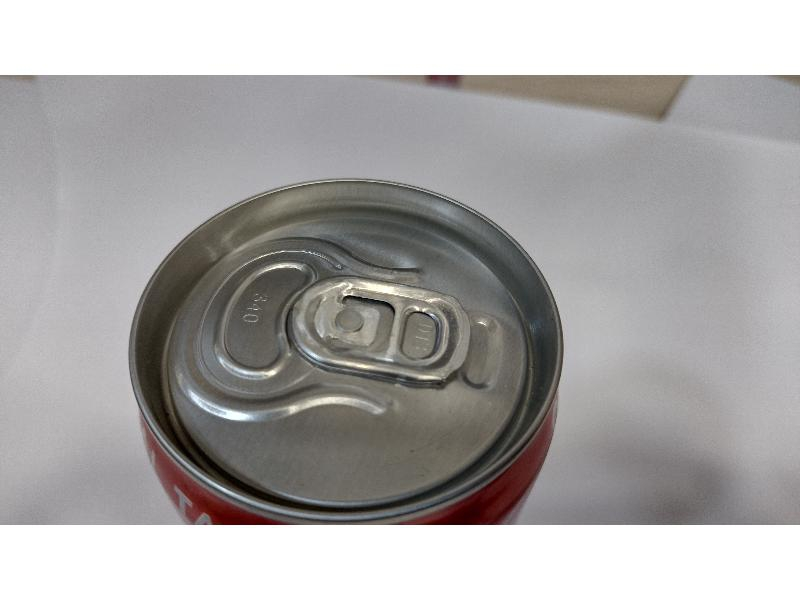can: (121, 166, 581, 521)
